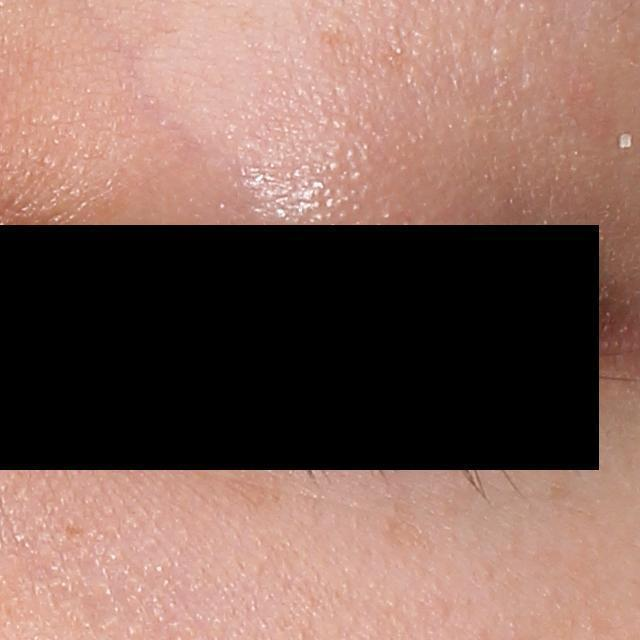melasma: (377, 497, 445, 558)
